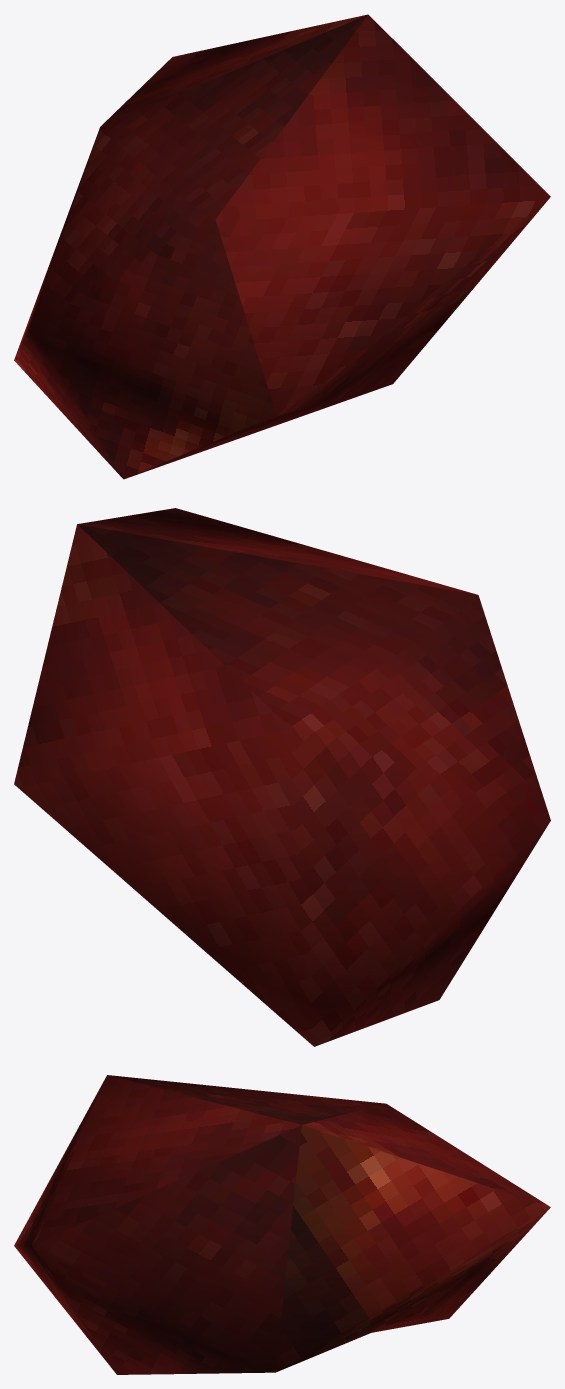
The model's file is gib1.glb.
The picture shows the model from 3 angles, top to bottom: view 1: azimuth 30°, elevation 25°; view 2: azimuth 150°, elevation 25°; view 3: azimuth 270°, elevation 25°; orthographic projection. The views are drawn at different scales.
Parts seen in each view (by area): view 1: Gib1; view 2: Gib1; view 3: Gib1.
Boxes of the visible parts, x1=… form: Gib1: x1=14, y1=14, x2=550, y2=479; Gib1: x1=14, y1=508, x2=550, y2=1046; Gib1: x1=14, y1=1075, x2=550, y2=1374.
Bounding box in the file's own units: 2.02 × 1.68 × 2.21.
Materials: 1 (1 with a texture image).
